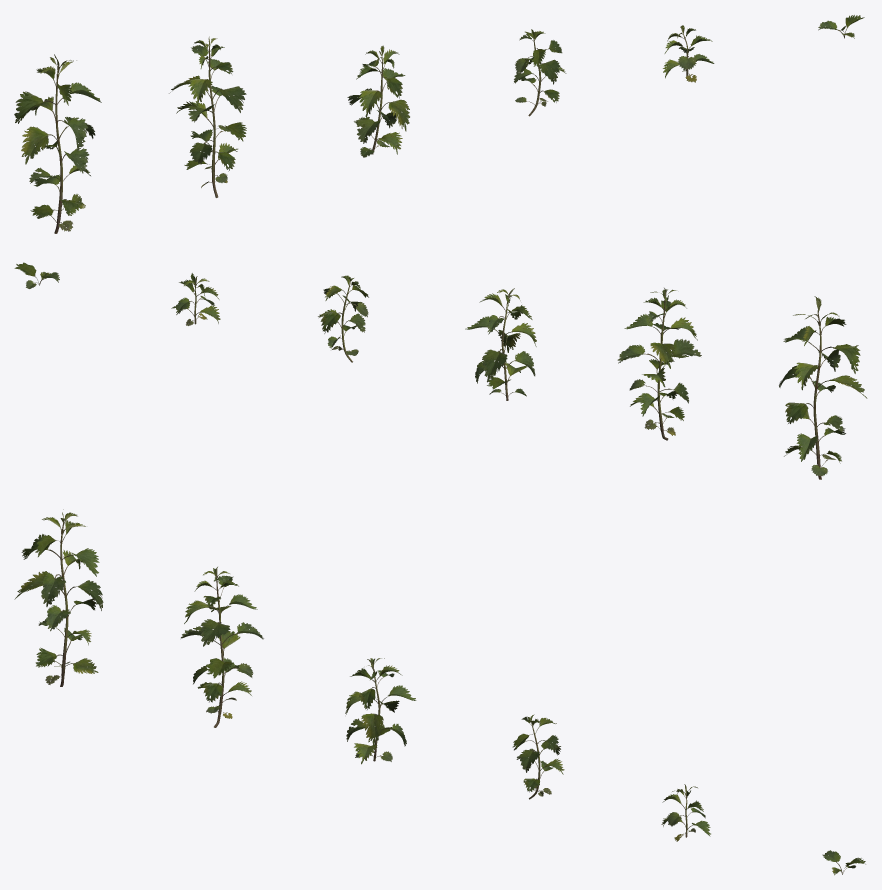
The model's file is nettle_plant.glb.
3 views of the same model, one above another, from view 1: azimuth 30°, elevation 25°; view 2: azimuth 150°, elevation 25°; view 3: azimuth 330°, elevation 25° (orthographic).
Parts seen in each view (by area): view 1: nettle_plant_tall_a_LOD0, nettle_plant_tall_b_LOD0, nettle_plant_medium_a_LOD0, nettle_plant_medium_b_LOD0, nettle_plant_small_a_LOD0; view 2: nettle_plant_tall_a_LOD0, nettle_plant_tall_b_LOD0, nettle_plant_medium_a_LOD0, nettle_plant_medium_b_LOD0, nettle_plant_small_a_LOD0; view 3: nettle_plant_tall_a_LOD0, nettle_plant_tall_b_LOD0, nettle_plant_medium_a_LOD0, nettle_plant_medium_b_LOD0, nettle_plant_small_a_LOD0.
Boxes of the visible parts, x1,y1,x2,y2 form: nettle_plant_tall_a_LOD0: (14,54,101,233); nettle_plant_tall_b_LOD0: (169,36,246,197); nettle_plant_medium_a_LOD0: (347,45,409,157); nettle_plant_medium_b_LOD0: (514,29,566,116); nettle_plant_small_a_LOD0: (663,25,714,82); nettle_plant_tall_a_LOD0: (779,296,867,479); nettle_plant_tall_b_LOD0: (617,288,701,440); nettle_plant_medium_a_LOD0: (465,288,536,400); nettle_plant_medium_b_LOD0: (318,275,368,362); nettle_plant_small_a_LOD0: (171,273,220,325); nettle_plant_tall_a_LOD0: (14,509,103,686); nettle_plant_tall_b_LOD0: (181,567,263,727); nettle_plant_medium_a_LOD0: (345,658,416,764); nettle_plant_medium_b_LOD0: (512,714,564,799); nettle_plant_small_a_LOD0: (661,784,710,841).
Bounding box in the file's own units: 1.08 × 0.2184 × 0.0947.
Materials: 1 (1 with a texture image).
